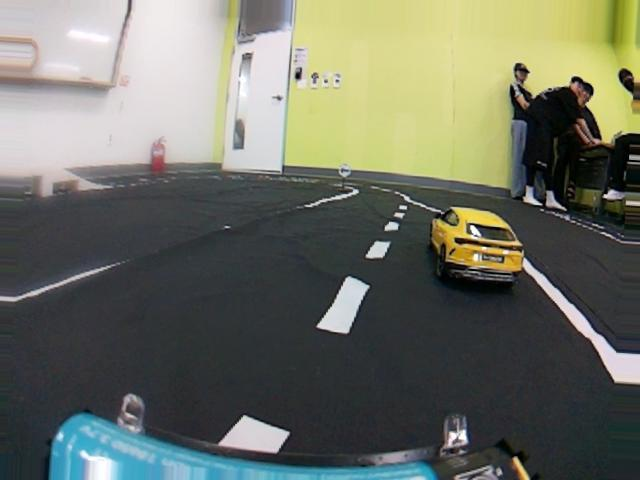car: (433, 200, 530, 290)
left: (0, 251, 640, 480)
